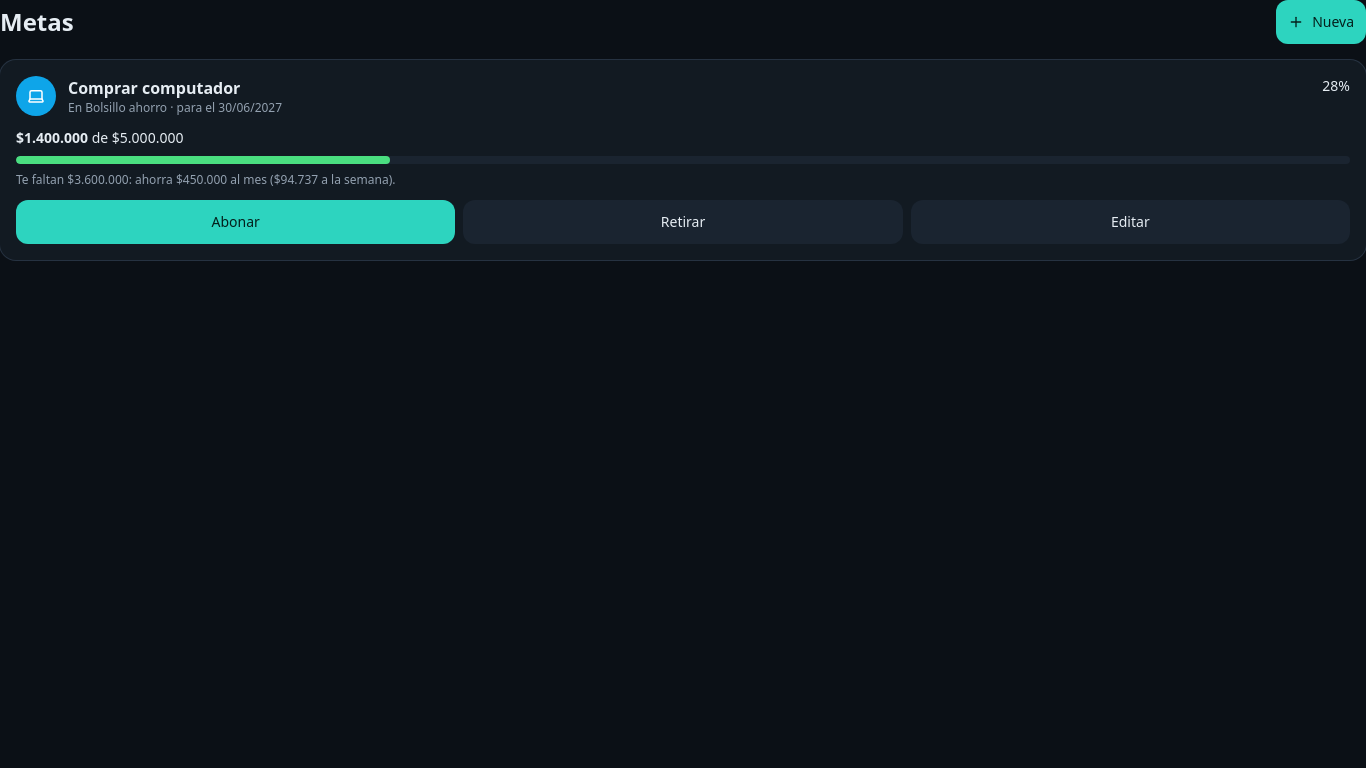
Test: GoalsPage (spec 8.10) › shows the withdrawal cap hint and the server field error under Valor
Click the button "Retirar" at (683, 222), box [463,200,903,244]
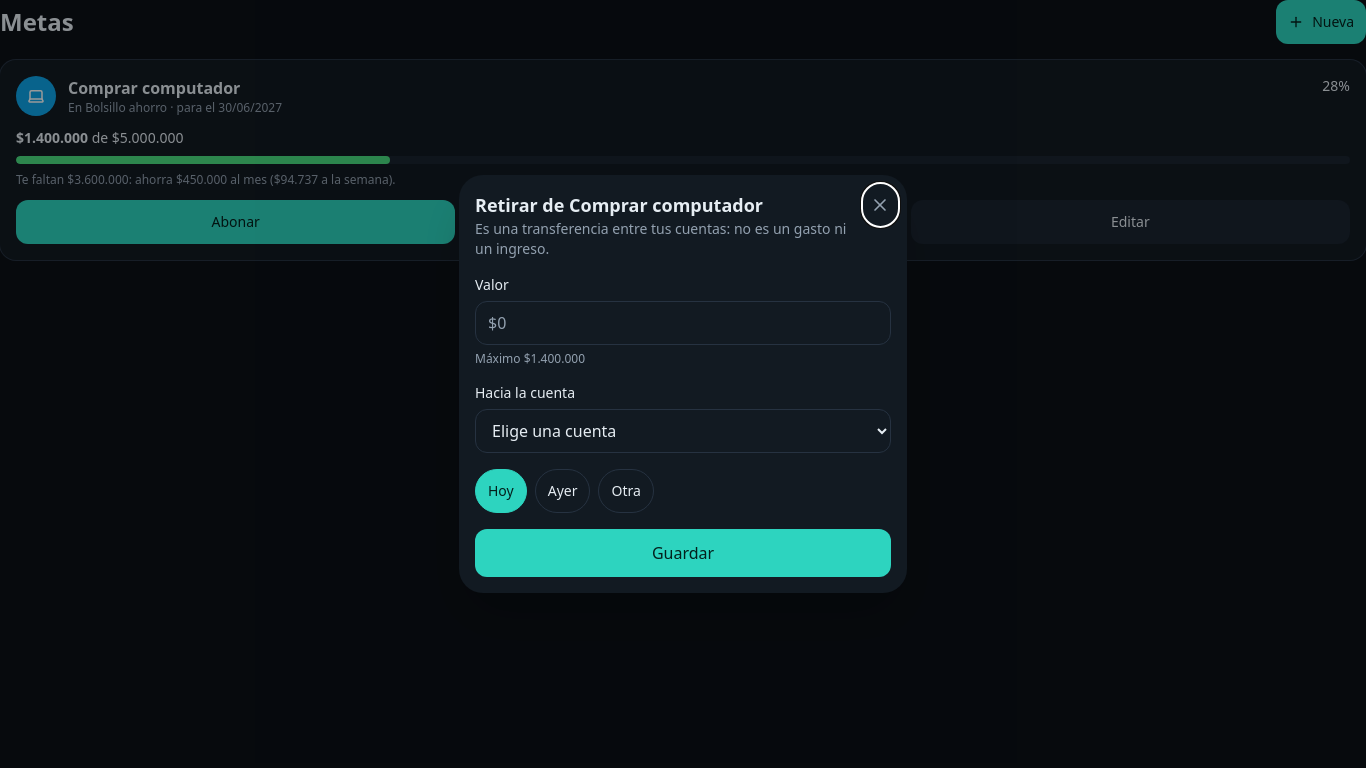
Result: the text "Máximo $1.400.000" is shown at [475,350,585,367]
Type "2000000" into the field labelled "Valor" at (683, 323), box [475,301,891,345]
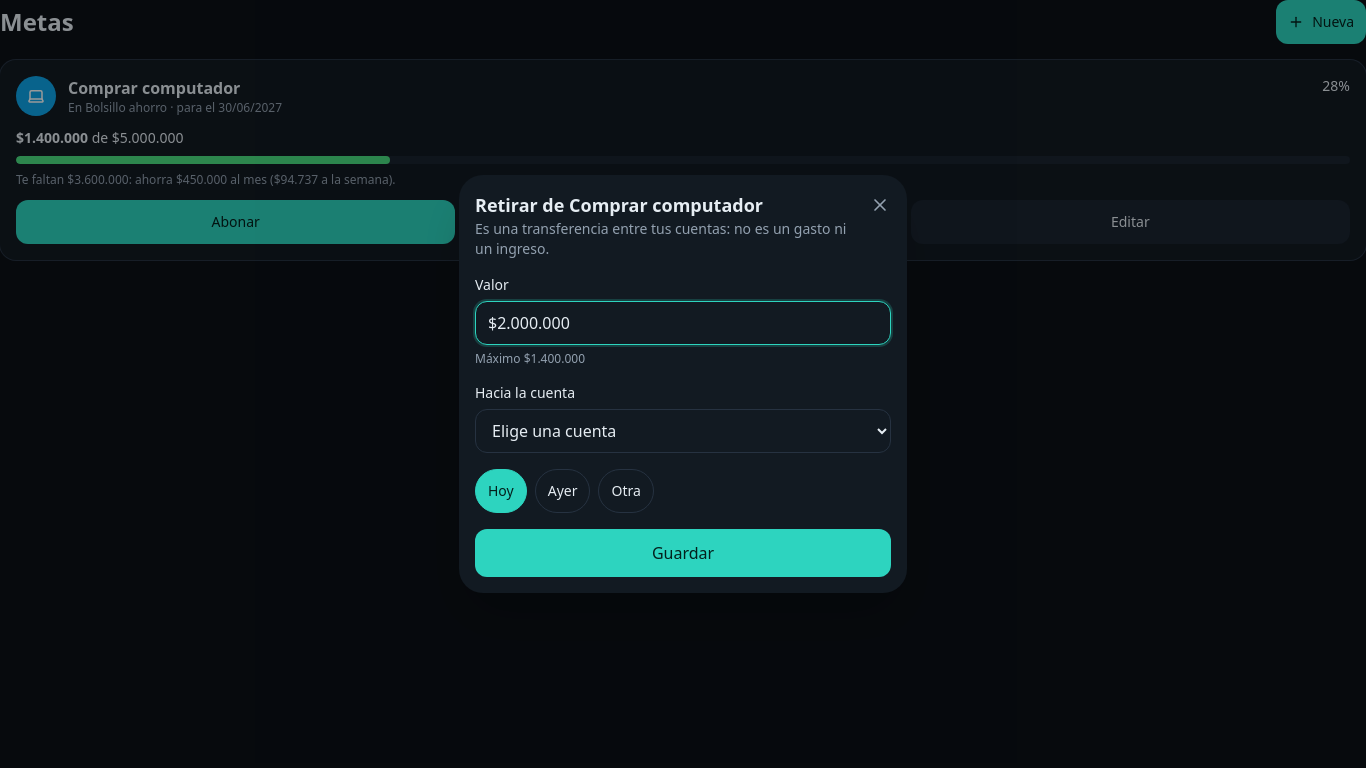
Select "Bancolombia" in the dropdown labelled "Hacia la cuenta" at (683, 431), box [475,409,891,453]
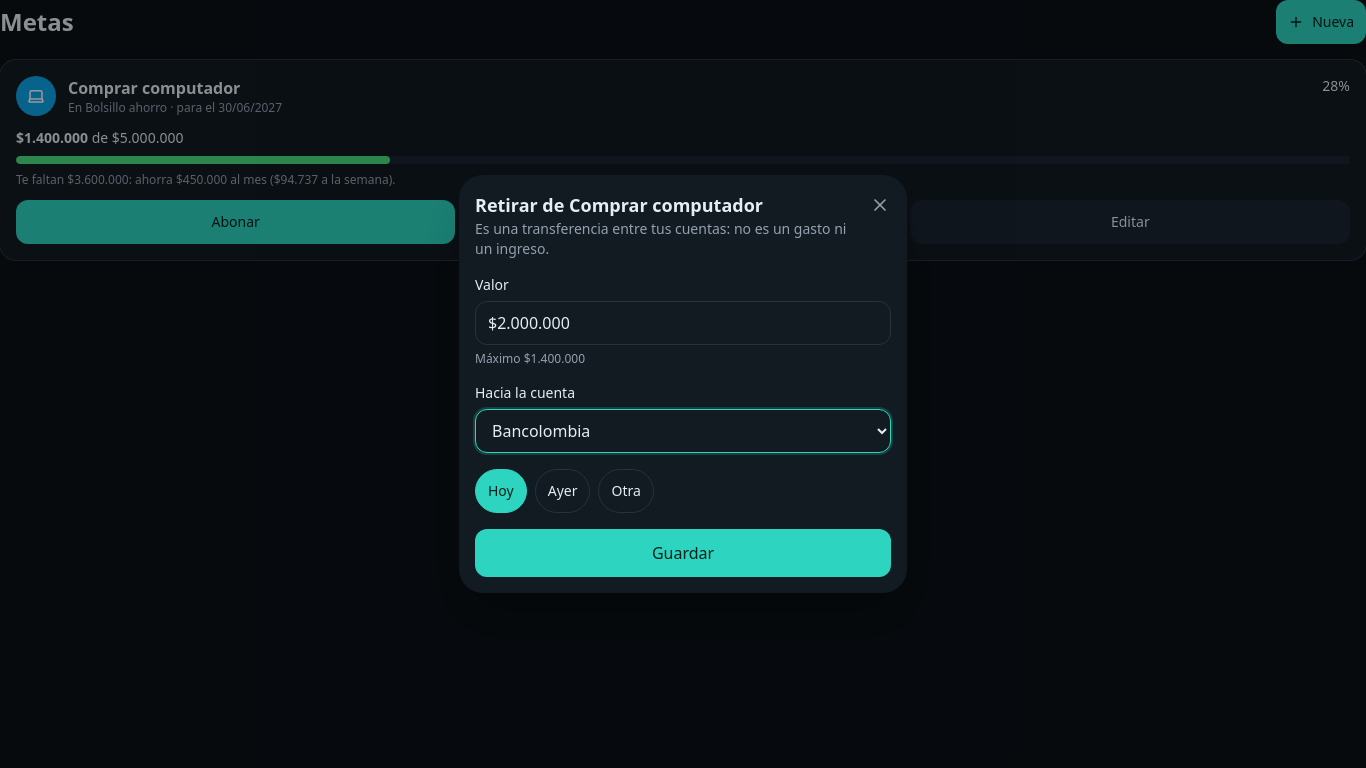
Click the button "Guardar" at (683, 553), box [475,529,891,577]
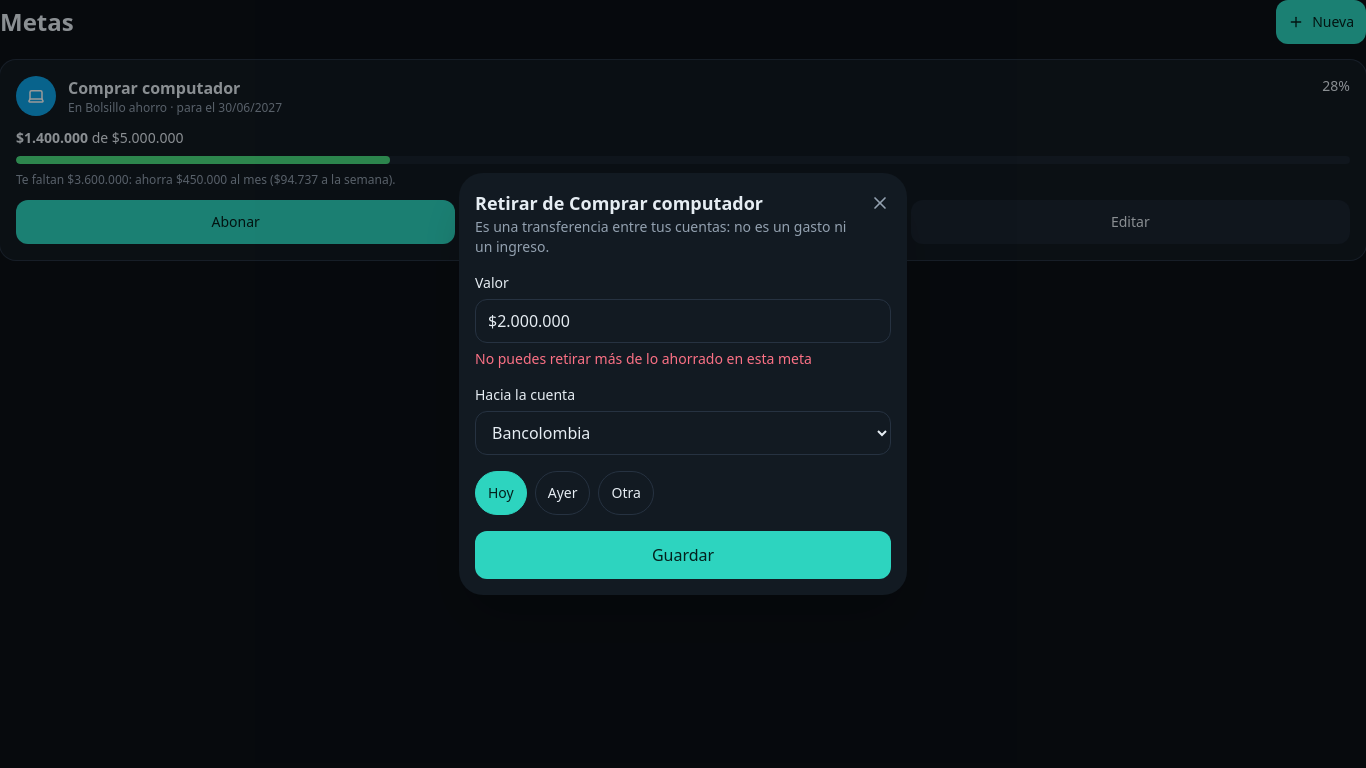
Result: the text "No puedes retirar más de lo ahorrado en esta meta" is shown at [475,349,812,368]
